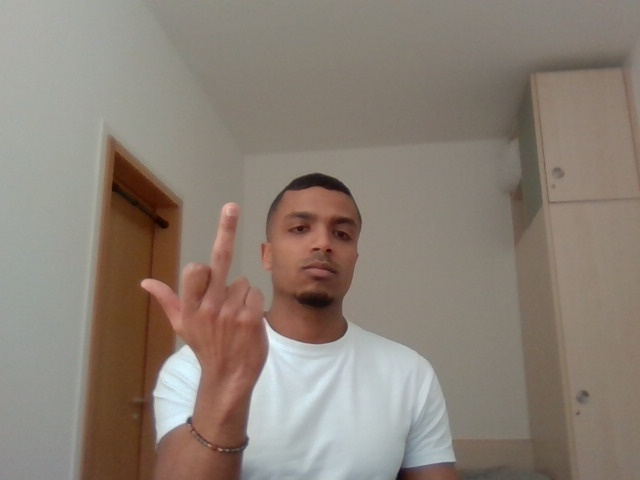fuckyou: (127, 178, 302, 417)
